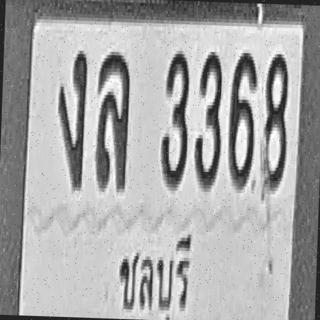A07: (55, 48, 88, 189)
A36: (94, 48, 130, 189)
N03: (159, 47, 190, 188), (194, 48, 224, 189)
N06: (226, 49, 258, 186)
N08: (260, 50, 290, 191)
P13: (113, 228, 200, 320)
